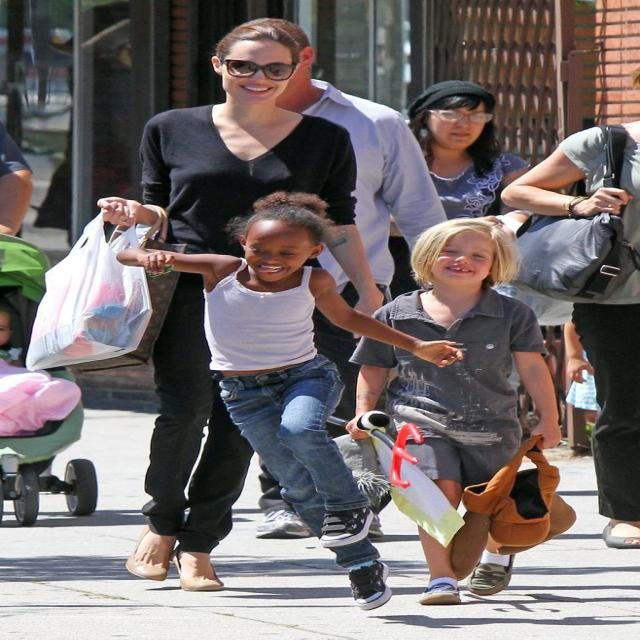body: (22, 13, 390, 596), (110, 186, 470, 614), (222, 15, 456, 542), (324, 214, 579, 606), (0, 485, 640, 630), (497, 64, 640, 551), (0, 110, 62, 484), (403, 79, 532, 219), (552, 318, 614, 418)
